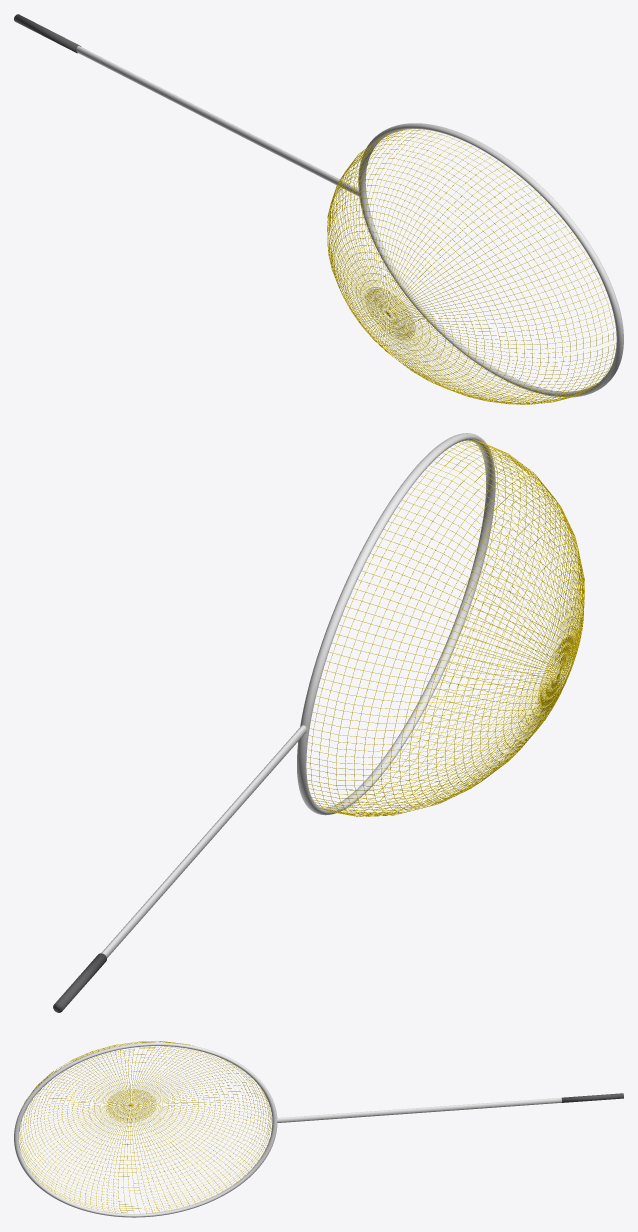
File: net.fbx
3 renders of one model, top to bottom at view 1: azimuth 30°, elevation 25°; view 2: azimuth 150°, elevation 25°; view 3: azimuth 270°, elevation 25°, orthographic. The views are drawn at different scales.
Parts seen in each view (by area): view 1: Sphere, Circle, Vert; view 2: Sphere, Circle, Vert; view 3: Sphere, Circle, Vert.
Boxes of the visible parts, x1,y1,x2,y2 form: Sphere: (327, 128, 616, 404); Circle: (14, 14, 623, 397); Vert: (76, 46, 358, 196); Sphere: (306, 438, 584, 816); Circle: (53, 433, 495, 1012); Vert: (101, 725, 306, 957); Sphere: (19, 1041, 272, 1213); Circle: (14, 1042, 623, 1217); Vert: (277, 1098, 561, 1122).
Bounding box in the file's own units: 93.35 × 143 × 487.
